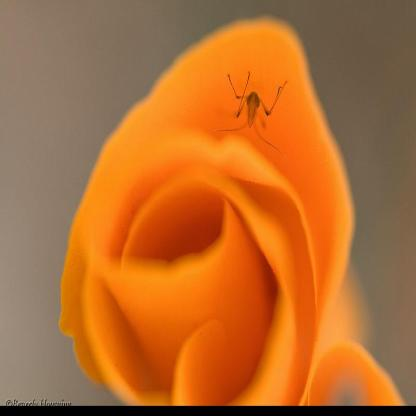aphid: (226, 64, 287, 158)
